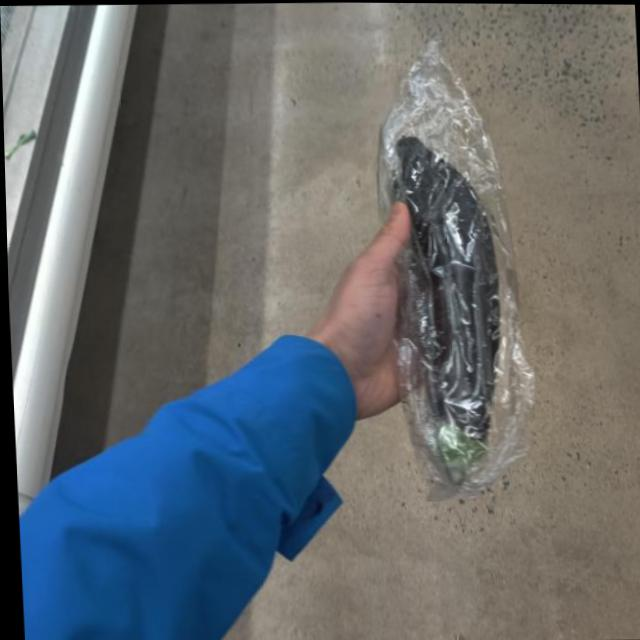Eggplant: (381, 39, 535, 484)
